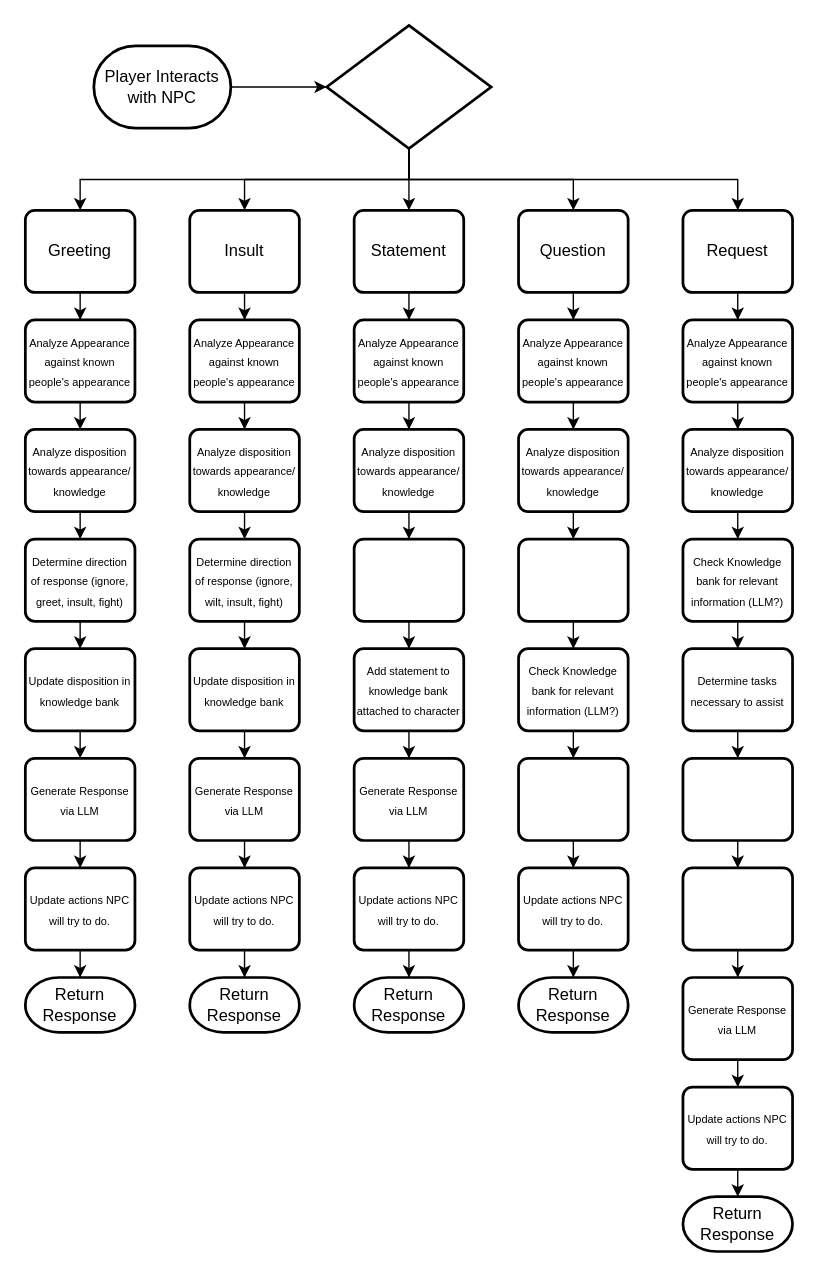
Some shapes in this 817 by 1275 pixel diagram are drawn without their labels. The centre of each missing label's shape, as x and y in pixels:
"Classification" goes at point (408, 86).
"Determine Difficulty of doing those tasks" goes at point (737, 798).
"Determine direction of response (ignore, accept, disagree)" goes at point (408, 579).
"Determine whether to assist, ignore, decline, or sabotage." goes at point (737, 908).
"Determine whether to respond, ignore, or lie" goes at point (572, 579).
"Use LLM to generate desired response to question using info" goes at point (572, 798).
